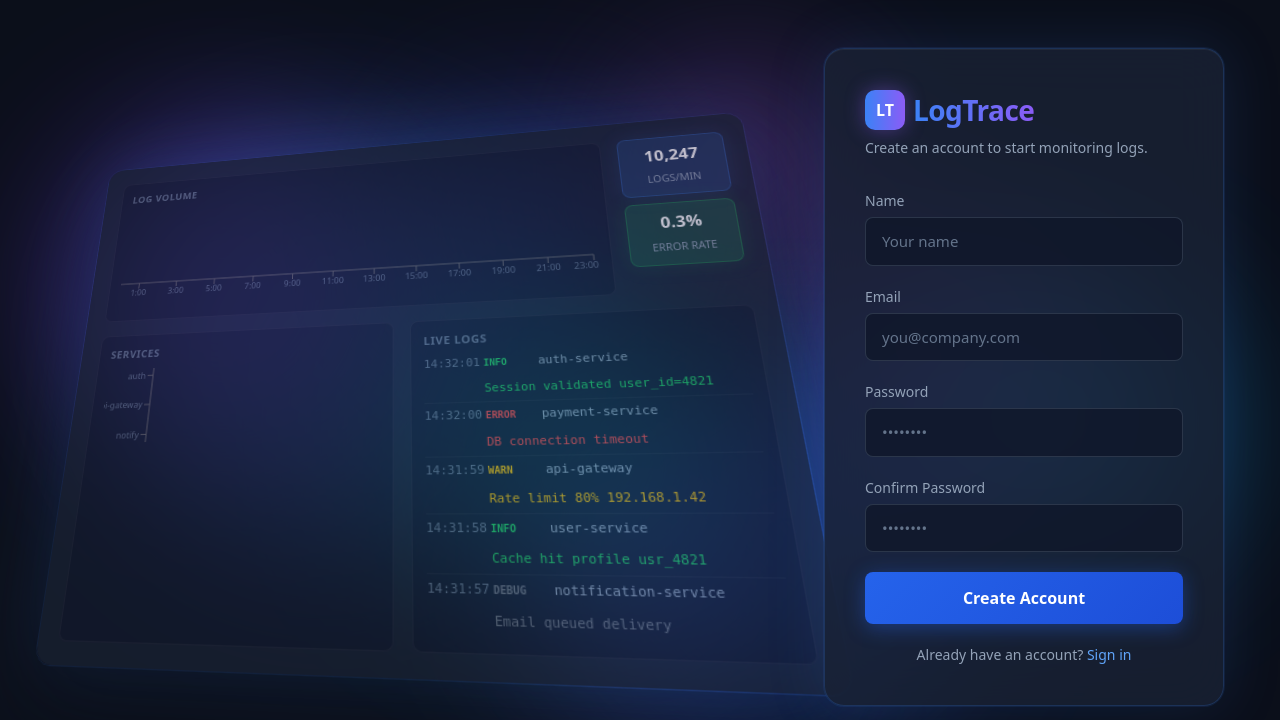
Test case: SignupPage › shows error when password is too short
The image size is (1280, 720).
Type "Test User" into the field labelled "Name" at x=1024, y=241, box 865,217 -> 1183,266
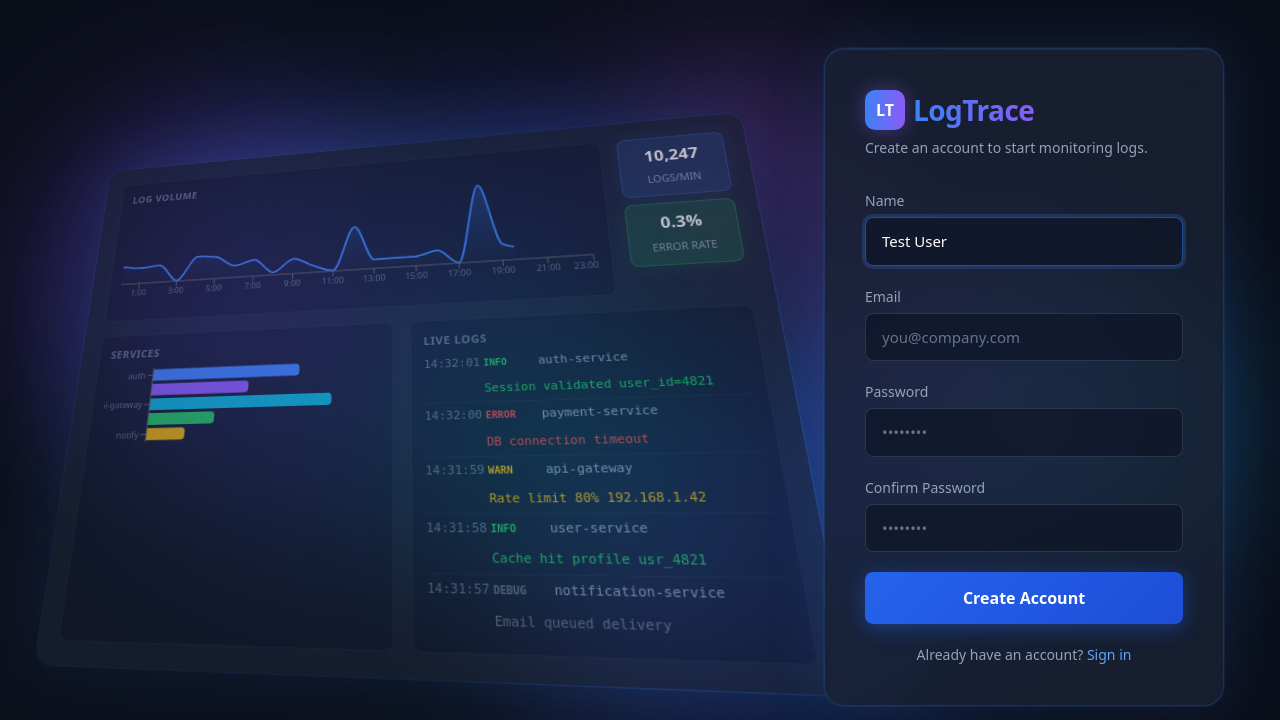
Type "test@example.com" into the field labelled "Email" at x=1024, y=337, box 865,312 -> 1183,361
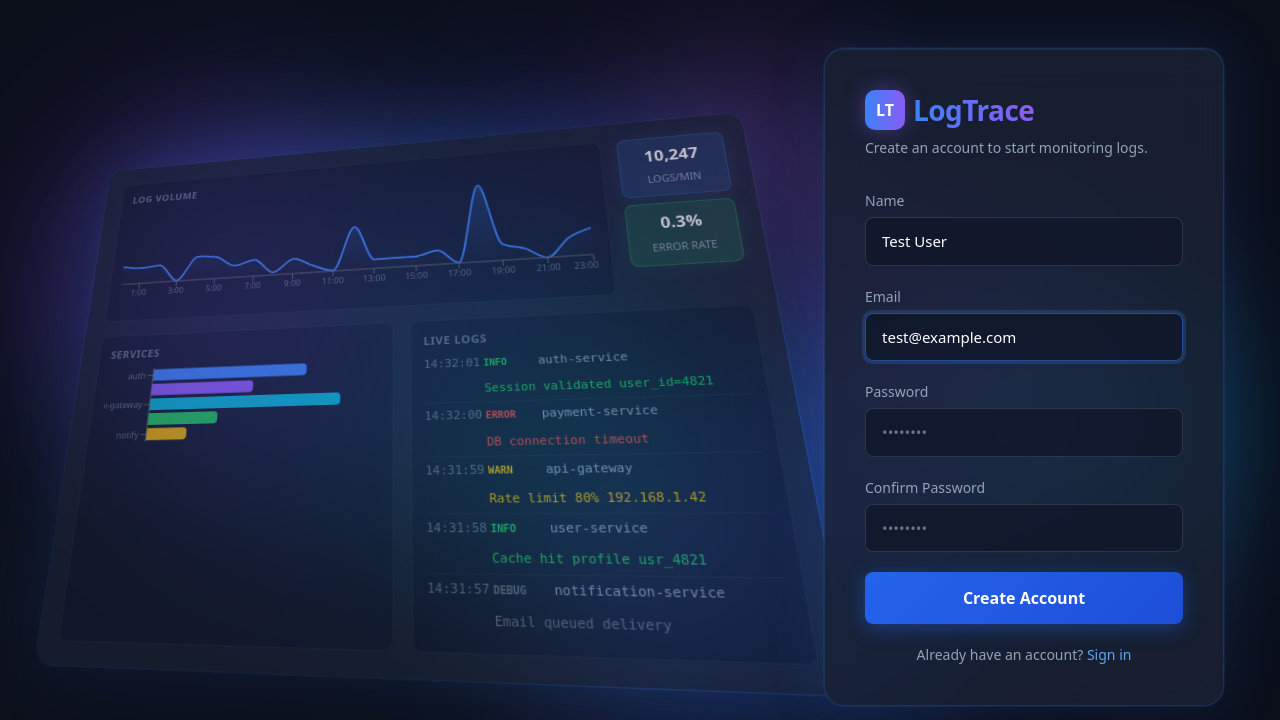
Type "12345" into the password field labelled "Password" at x=1024, y=432, box 865,408 -> 1183,456
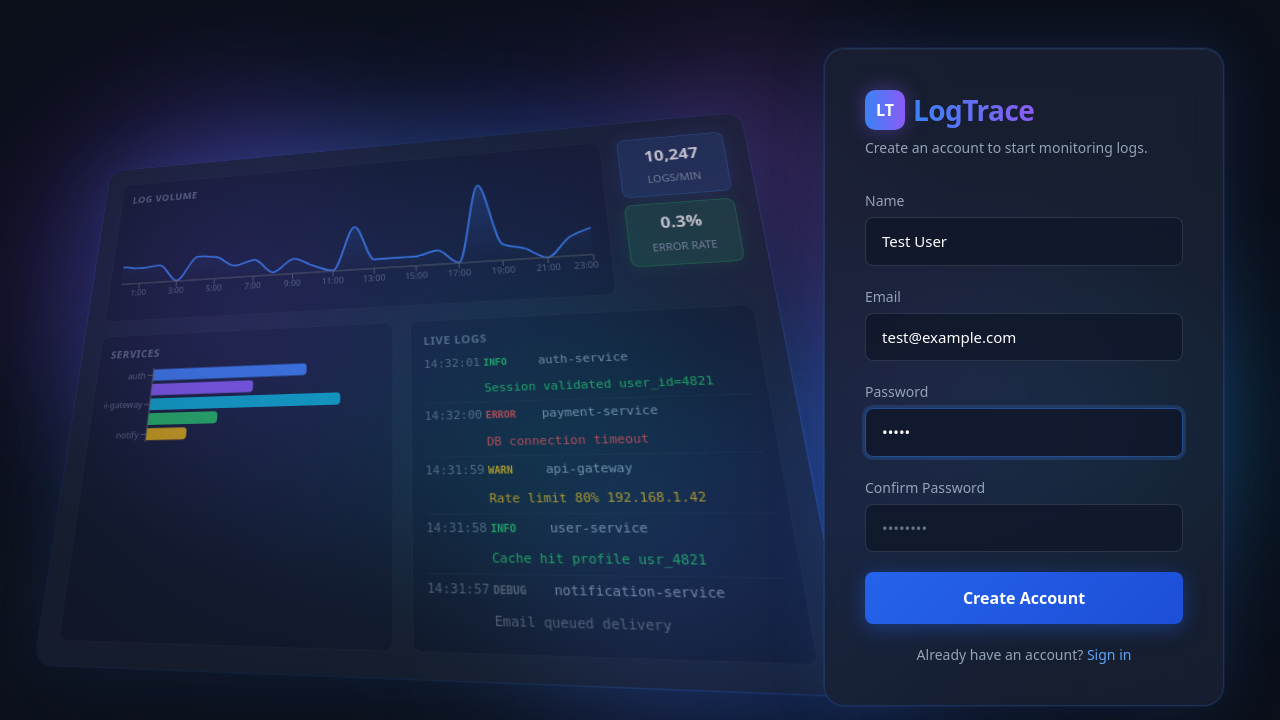
Type "12345" into the password field labelled "Confirm Password" at x=1024, y=528, box 865,504 -> 1183,552
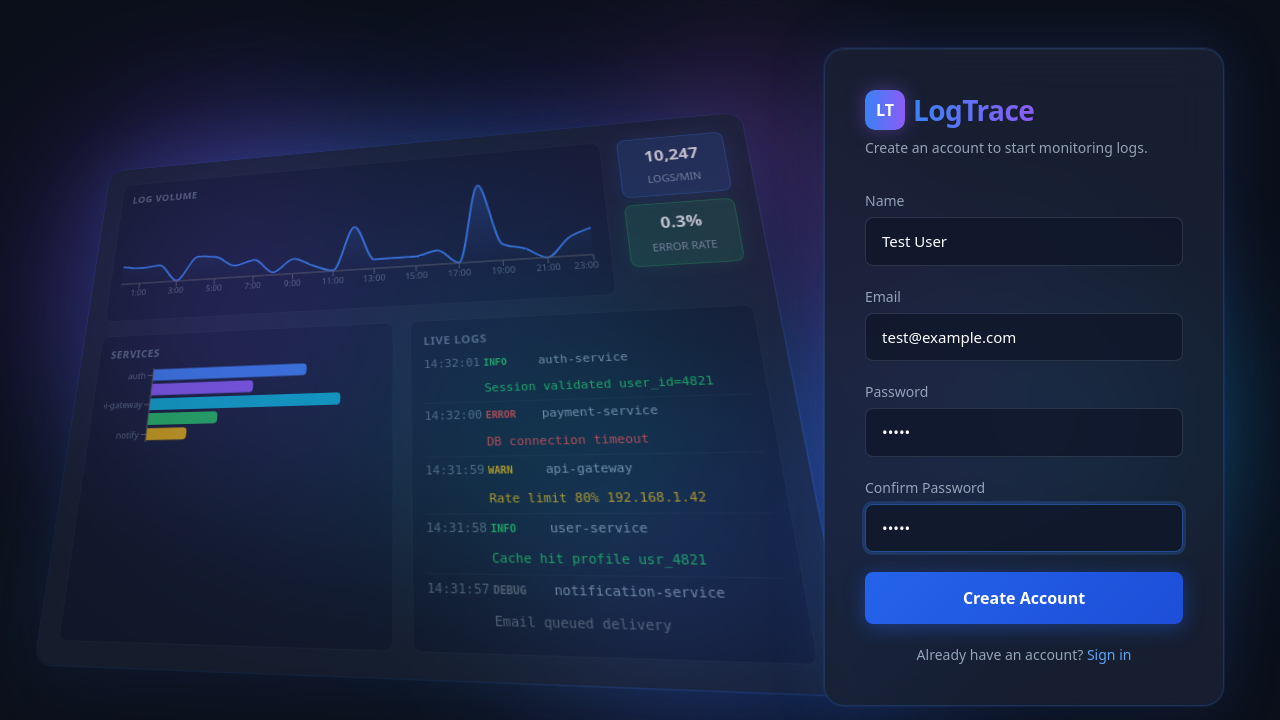
Click the button "Create Account" at x=1024, y=598, box 865,572 -> 1183,624
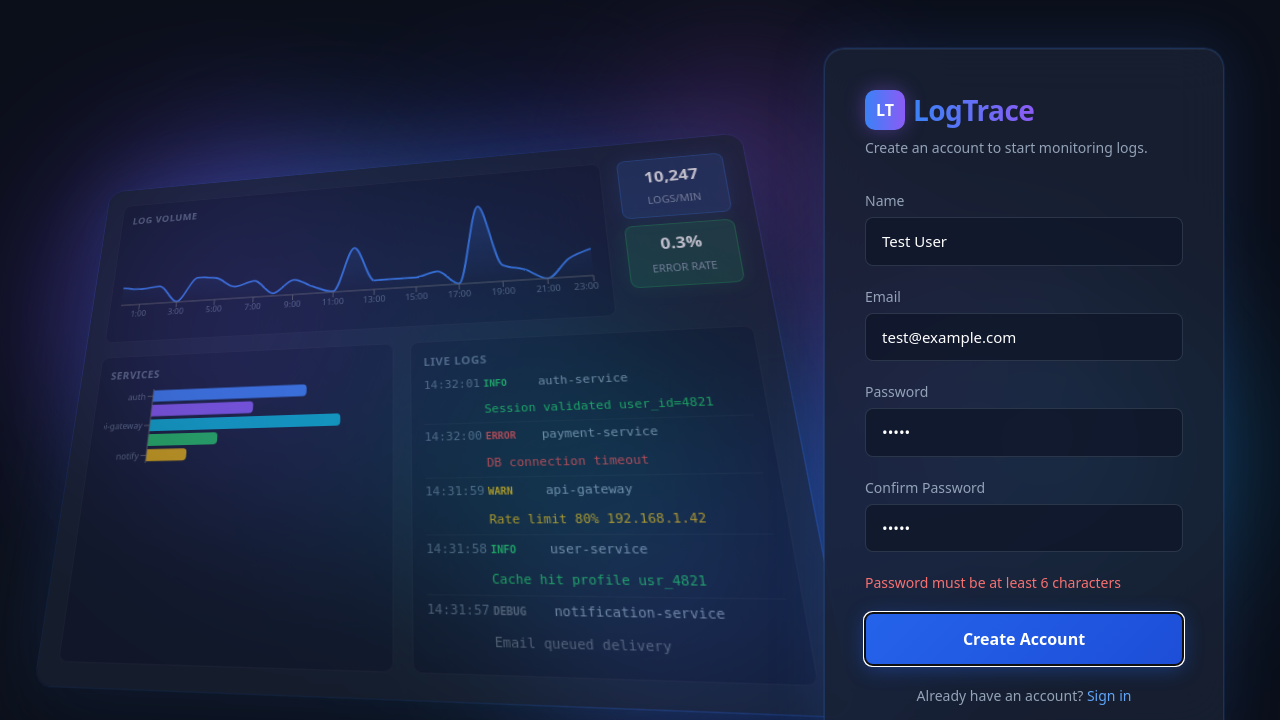
Check: the text "Password must be at least 6 characters" is shown, box 865,573 -> 1121,592
